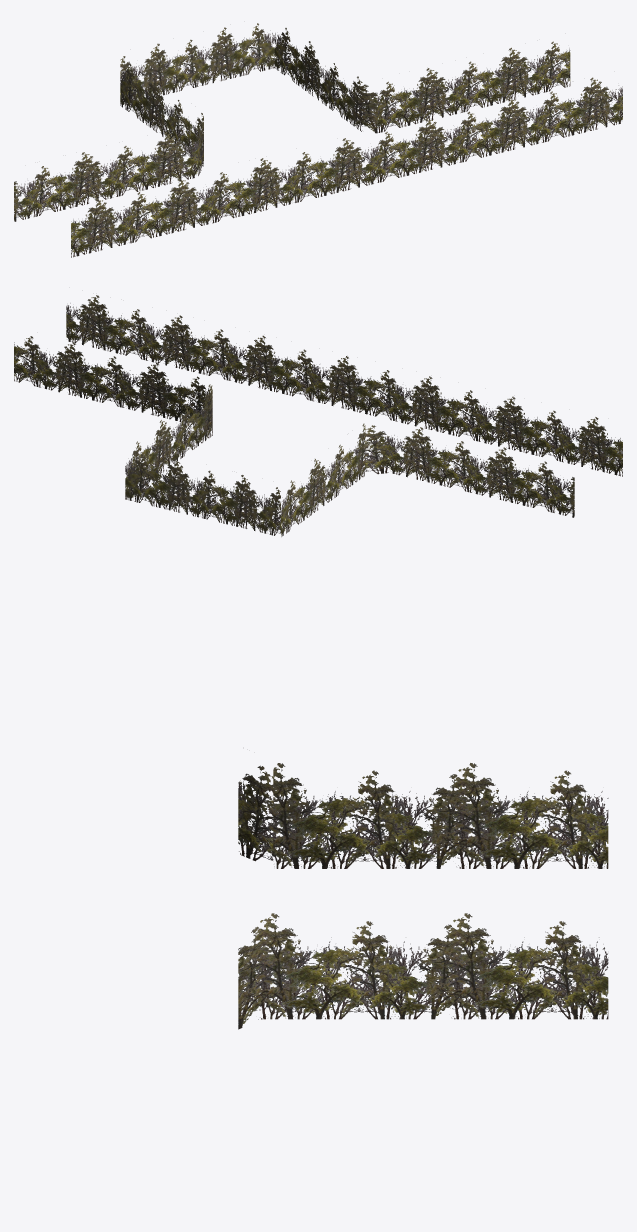
File: bushes1.glb
3 views of the same model, one above another, from view 1: azimuth 30°, elevation 25°; view 2: azimuth 150°, elevation 25°; view 3: azimuth 270°, elevation 25° (orthographic). The views are drawn at different scales.
Parts seen in each view (by area): view 1: Backgrounds_Background_01_0, Backgrounds_01_Background_01_0; view 2: Backgrounds_Background_01_0, Backgrounds_01_Background_01_0; view 3: Backgrounds_Background_01_0.
Part boxes in pixels (x1=…): Backgrounds_Background_01_0: x1=14, y1=23, x2=570, y2=221; Backgrounds_01_Background_01_0: x1=71, y1=77, x2=622, y2=257; Backgrounds_Background_01_0: x1=14, y1=336, x2=574, y2=536; Backgrounds_01_Background_01_0: x1=66, y1=295, x2=622, y2=476; Backgrounds_Background_01_0: x1=238, y1=763, x2=608, y2=1029.
Bounding box in the file's own units: 190 × 18.1 × 85.55.
1 material, 1 textured.
